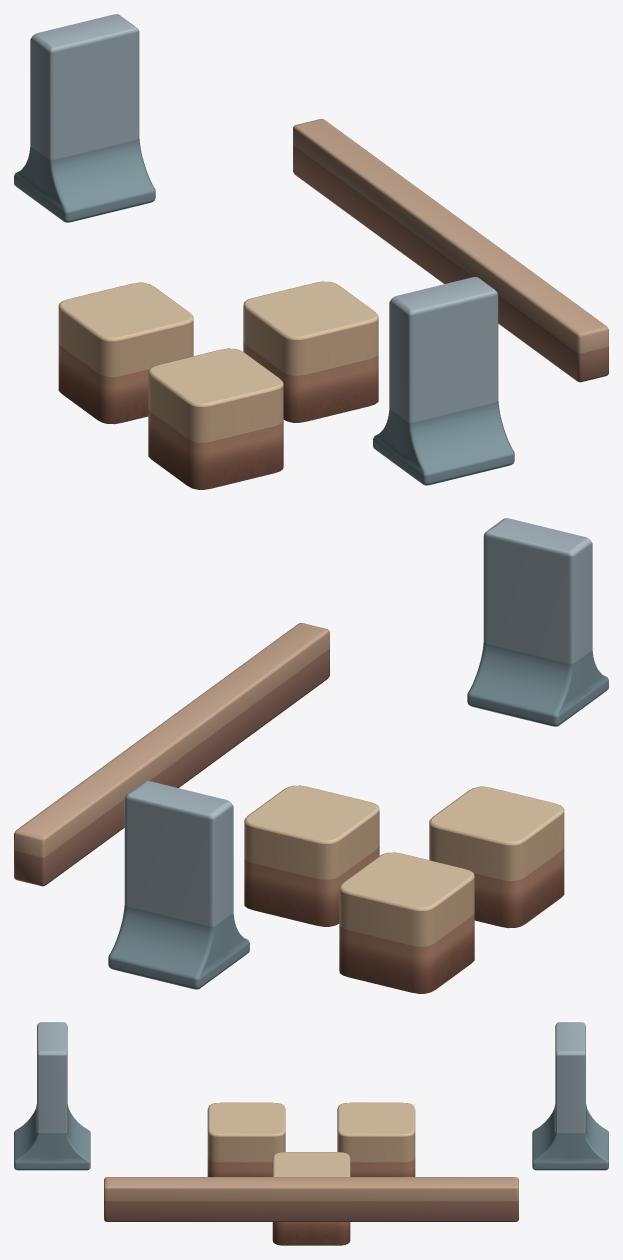
The model's file is Props.fbx.
3 renders of one model, top to bottom at view 1: azimuth 30°, elevation 25°; view 2: azimuth 150°, elevation 25°; view 3: azimuth 270°, elevation 25°, orthographic. The views are drawn at different scales.
Visible parts, largest first — view 1: 曲面单元 (×2), Box20-3_2, Box01, Box01 (2), Box01 (1); view 2: 曲面单元 (×2), Box20-3_2, Box01 (1), Box01 (2), Box01; view 3: Box20-3_2, 曲面单元 (×2), Box01, Box01 (1), Box01 (2).
Part boxes in pixels (x1=…): 曲面单元 (×2): x1=14, y1=14, x2=514, y2=485; Box20-3_2: x1=293, y1=119, x2=608, y2=382; Box01: x1=148, y1=348, x2=283, y2=489; Box01 (2): x1=243, y1=281, x2=378, y2=422; Box01 (1): x1=58, y1=282, x2=193, y2=424; 曲面单元 (×2): x1=108, y1=518, x2=608, y2=989; Box20-3_2: x1=14, y1=623, x2=329, y2=886; Box01 (1): x1=339, y1=852, x2=474, y2=993; Box01 (2): x1=244, y1=785, x2=379, y2=926; Box01: x1=429, y1=786, x2=564, y2=928; Box20-3_2: x1=104, y1=1177, x2=518, y2=1221; 曲面单元 (×2): x1=14, y1=1022, x2=608, y2=1170; Box01: x1=207, y1=1102, x2=285, y2=1176; Box01 (1): x1=337, y1=1102, x2=415, y2=1176; Box01 (2): x1=272, y1=1152, x2=350, y2=1245.
Size of the model in its own units: 11 by 7.49 by 22.96.
